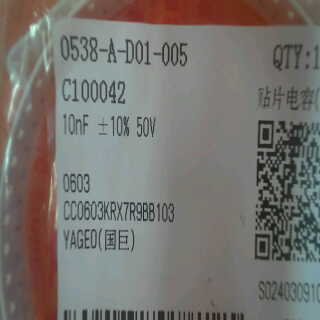10nF: (60, 110, 91, 138)
